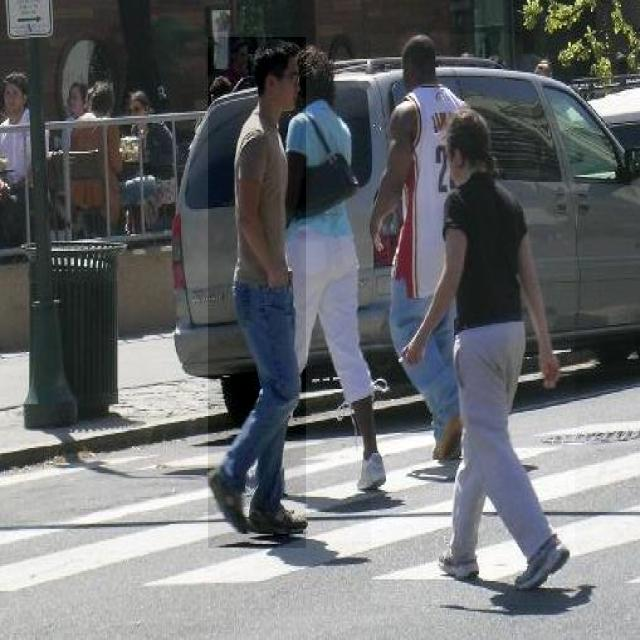with scooter: (371, 34, 575, 605), (208, 37, 306, 548)
